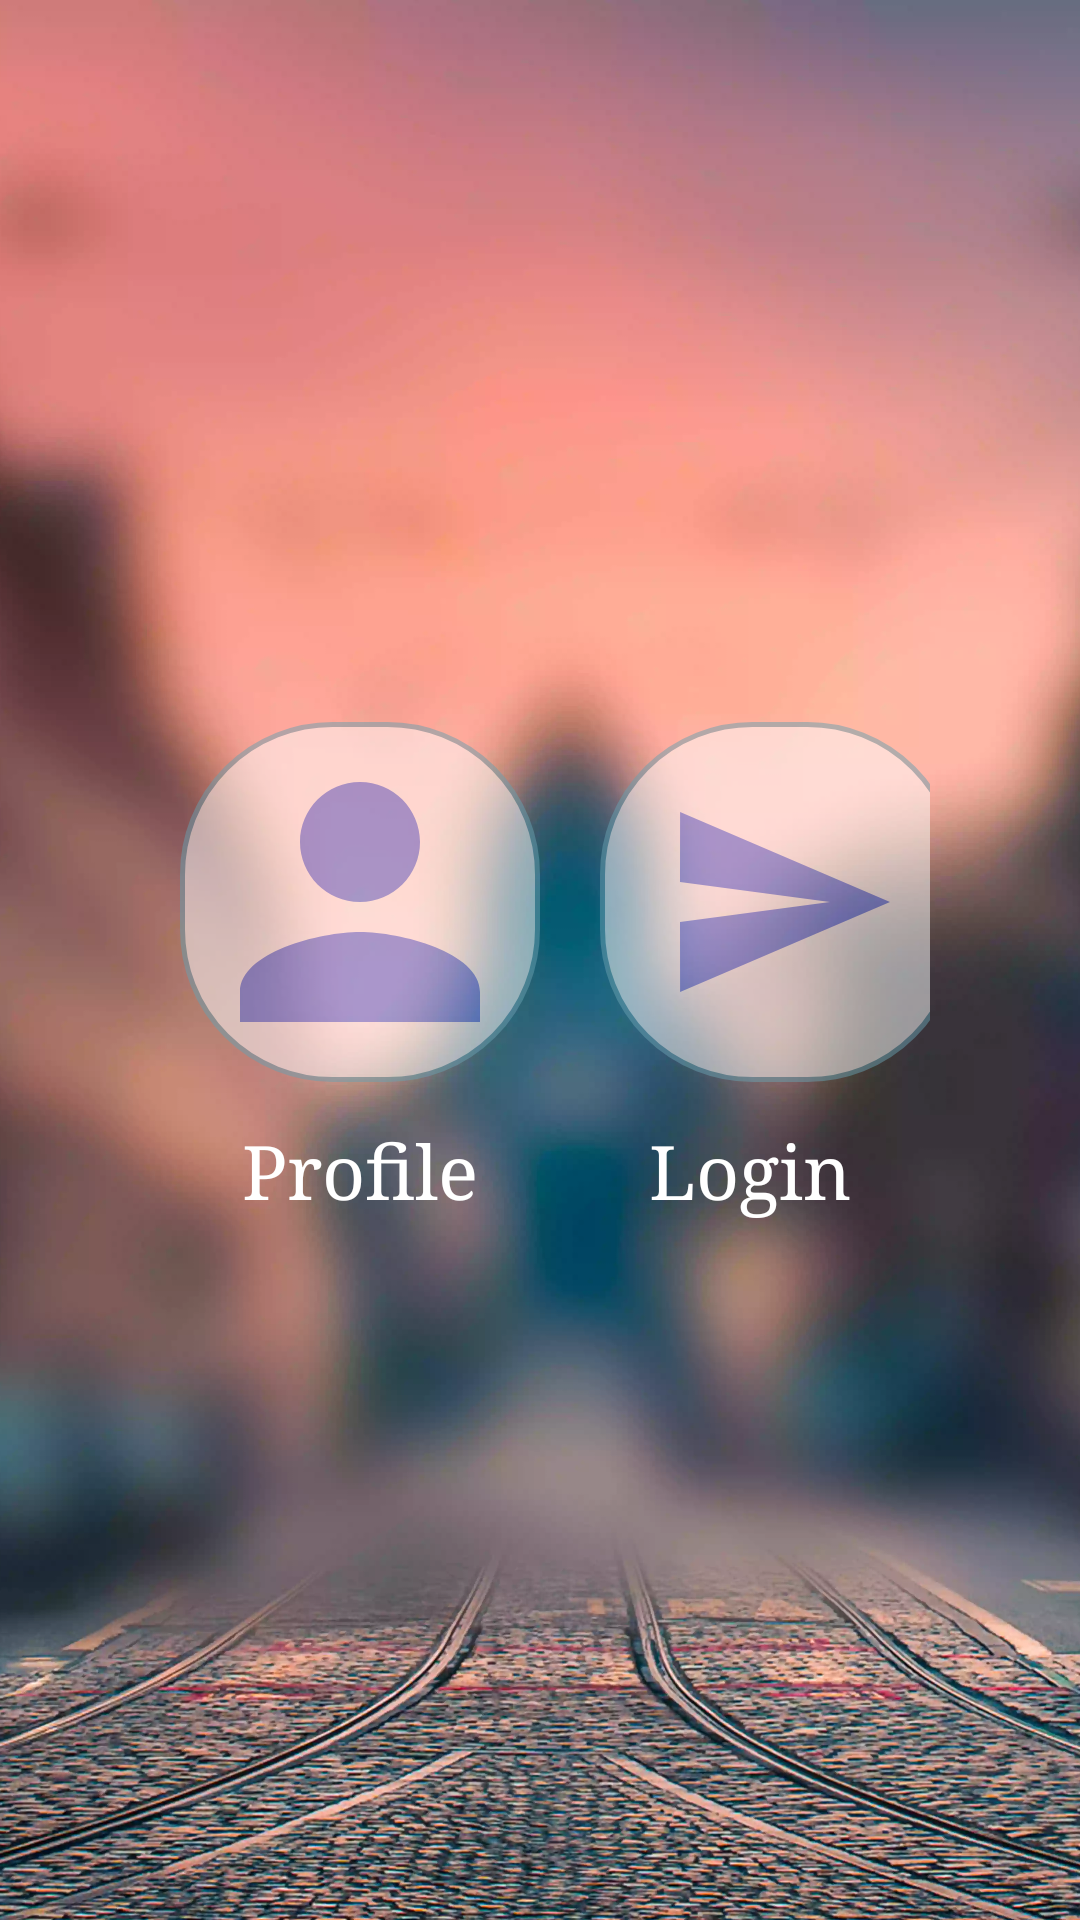

Where to tap for icons on this 1080px×1920px app screen, as point (x, y):
person: point (360, 902)
